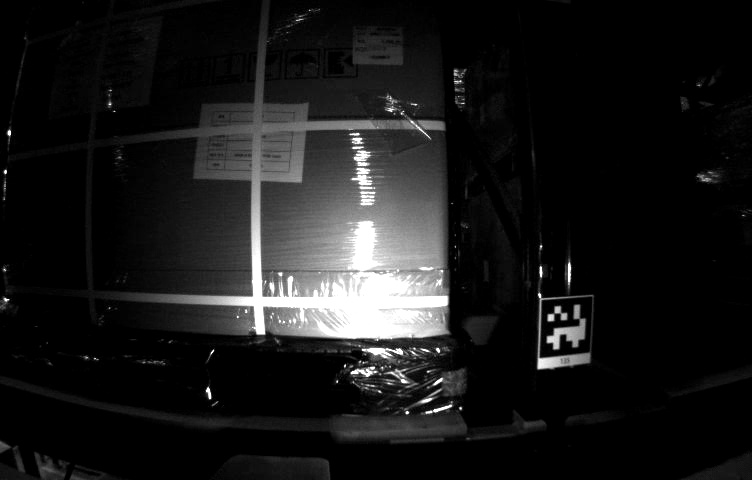True Barcode: (352, 26, 403, 66)
